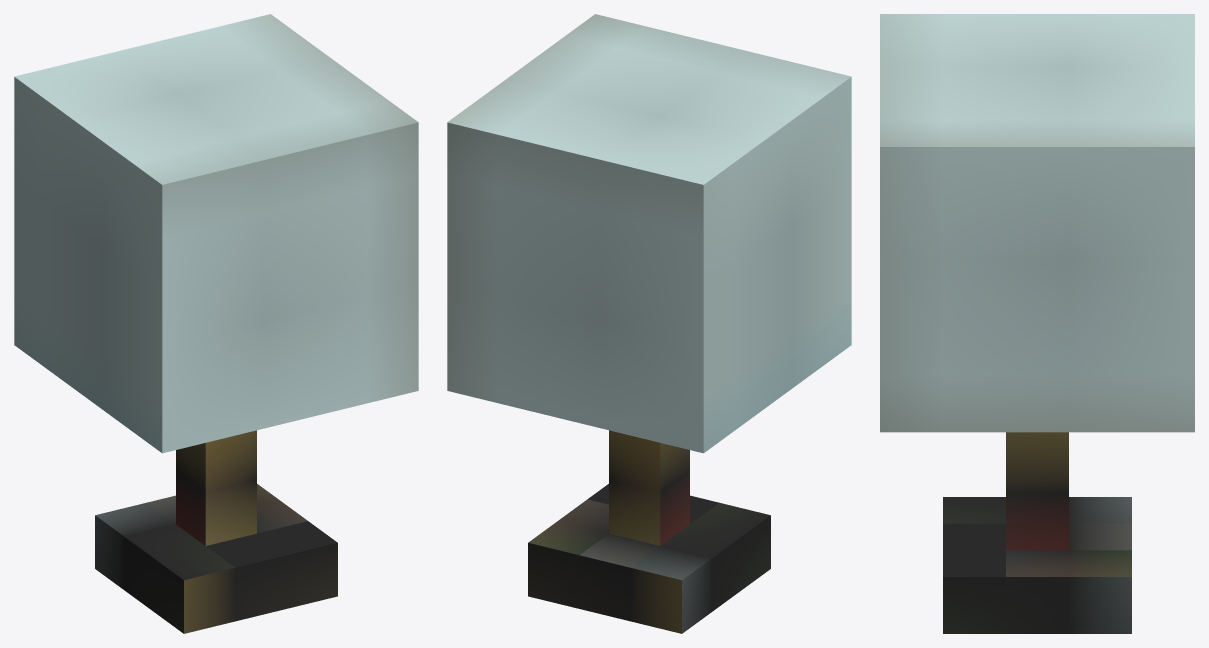
File: LampSmallBlackBase_02.obj
3 views of the same model, side by side, from view 1: azimuth 30°, elevation 25°; view 2: azimuth 150°, elevation 25°; view 3: azimuth 270°, elevation 25° (orthographic). The views are drawn at different scales.
Visible parts, largest first — view 1: LampSmallBlackBase_02; view 2: LampSmallBlackBase_02; view 3: LampSmallBlackBase_02.
Part boxes in pixels (<box>): LampSmallBlackBase_02: <box>14,14,418,633</box>; LampSmallBlackBase_02: <box>447,14,851,633</box>; LampSmallBlackBase_02: <box>880,14,1194,633</box>.
Size of the model in its own units: 0.25 by 0.45 by 0.25.
